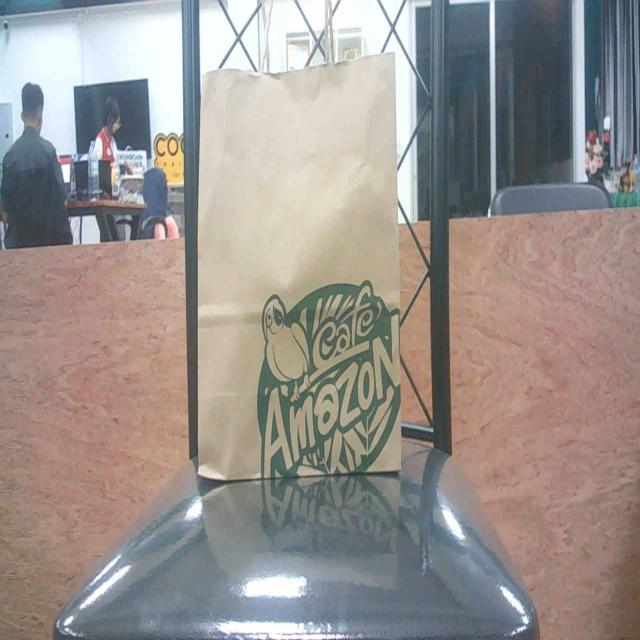bag: (200, 60, 402, 481)
